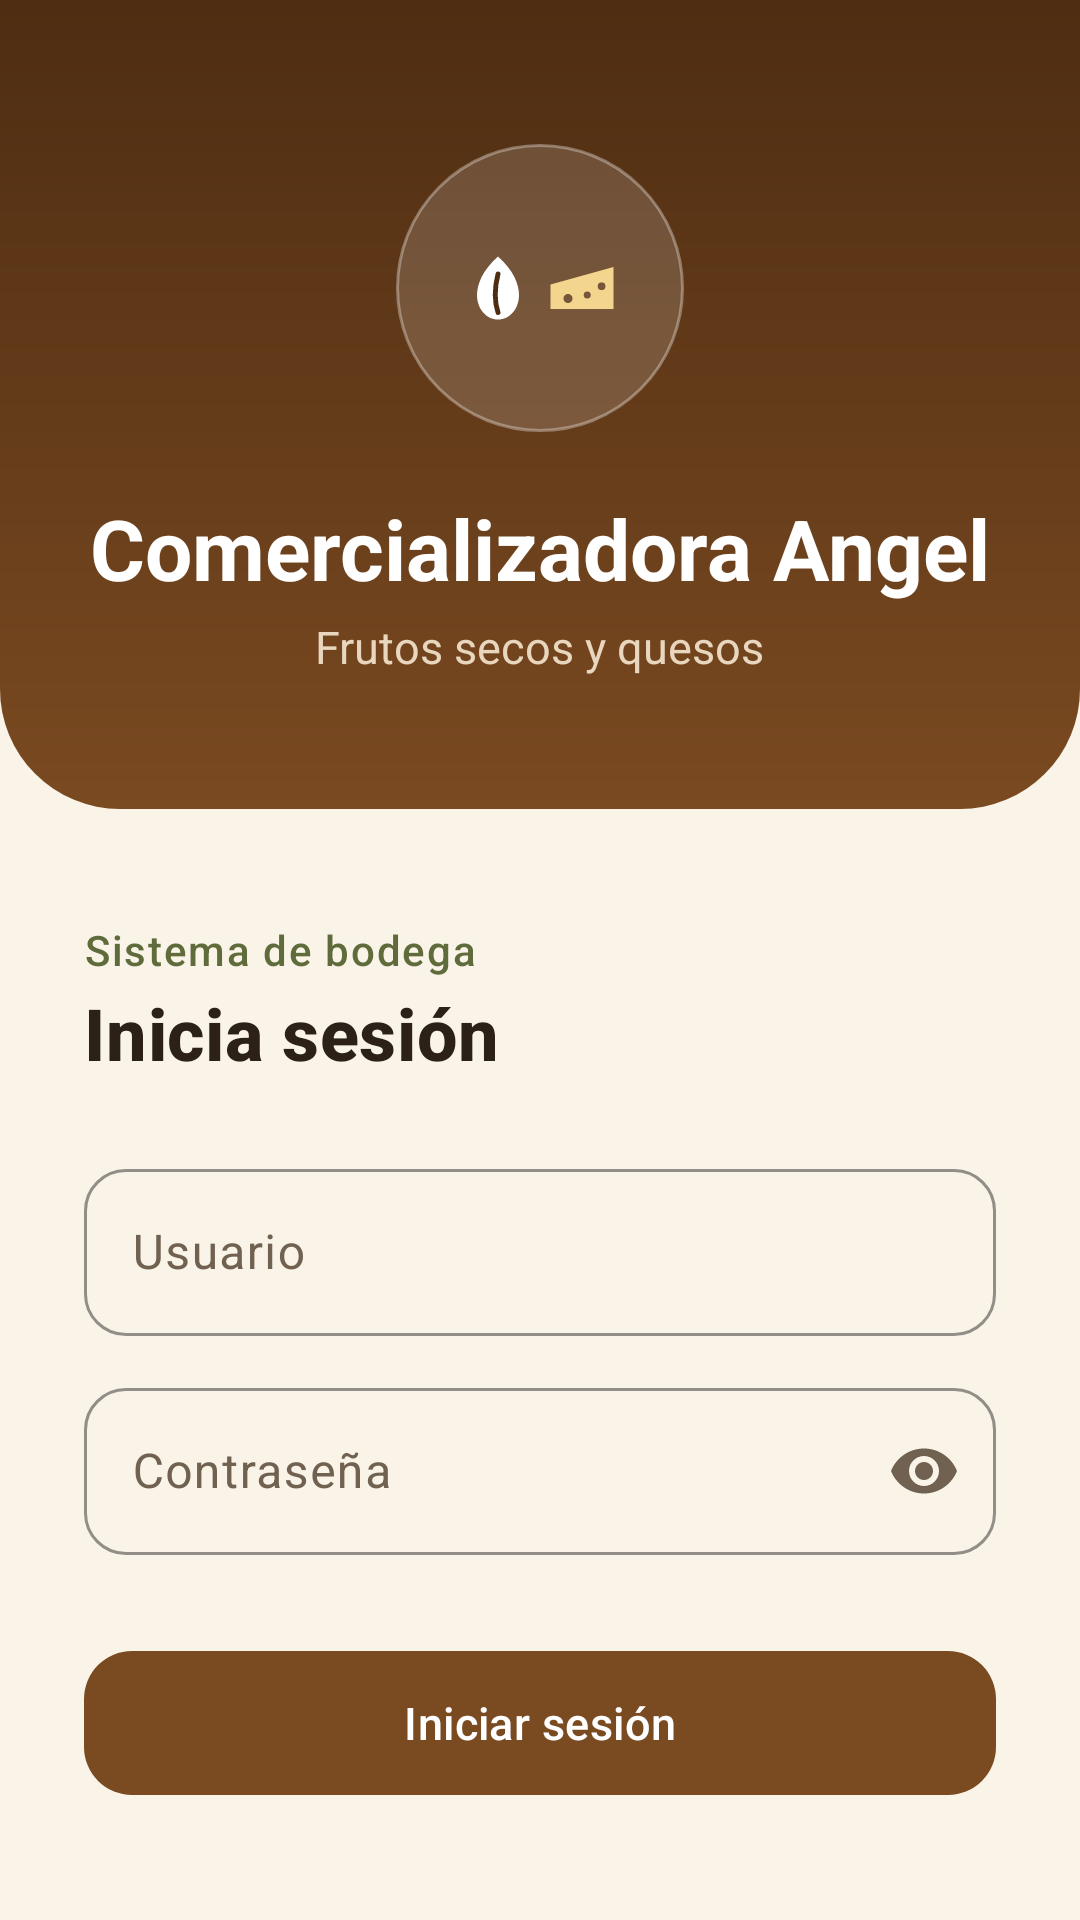

Where to tap for icons on this 1080px×1920px app screen, as (x=x, y=y):
brand: (x=540, y=288)
